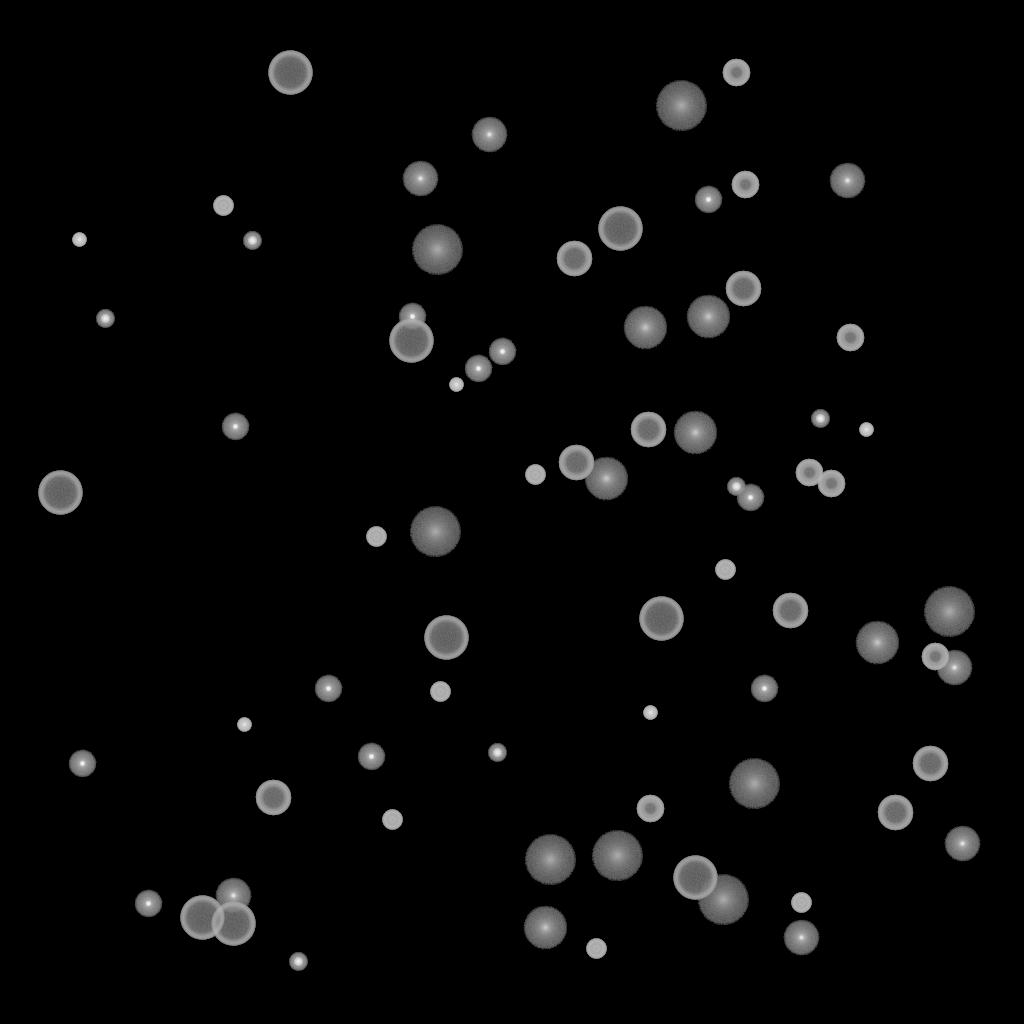depth:-10: (357, 743, 385, 771), (488, 338, 516, 366), (750, 675, 778, 703), (464, 355, 492, 383), (398, 303, 426, 331), (134, 890, 162, 918), (736, 484, 764, 512), (68, 750, 96, 778), (221, 413, 249, 441), (694, 186, 722, 214), (314, 675, 342, 703)
depth:-20: (488, 744, 506, 762), (811, 410, 829, 428), (243, 232, 261, 250), (96, 310, 114, 328), (289, 953, 307, 971), (727, 478, 745, 496)
depth:-30: (449, 378, 463, 392), (859, 423, 873, 437), (643, 706, 657, 720), (72, 233, 86, 247), (237, 718, 251, 732)
depth:-40: (366, 527, 386, 547), (715, 560, 735, 580), (525, 465, 545, 485), (430, 682, 450, 702), (586, 939, 606, 959), (213, 196, 233, 216), (791, 893, 811, 913), (382, 810, 402, 830)
depth:-50: (731, 171, 759, 199), (836, 324, 864, 352), (795, 459, 823, 487), (817, 470, 845, 498), (636, 795, 664, 823), (722, 59, 750, 87), (921, 643, 949, 671)
depth:-60: (558, 445, 594, 481), (556, 241, 592, 277), (630, 412, 666, 448), (255, 780, 291, 816), (912, 746, 948, 782), (725, 271, 761, 307), (877, 795, 913, 831), (772, 593, 808, 629)
depth:-70: (424, 616, 468, 660), (38, 471, 82, 515), (639, 597, 683, 641), (673, 856, 717, 900), (180, 896, 224, 940), (211, 902, 255, 946), (389, 319, 433, 363), (598, 207, 642, 251), (268, 51, 312, 95)
depth:0: (471, 117, 507, 153), (783, 920, 819, 956), (829, 163, 865, 199), (215, 878, 251, 914), (402, 161, 438, 197), (944, 826, 980, 862), (936, 650, 972, 686)
depth:10: (686, 295, 730, 339), (623, 306, 667, 350), (673, 411, 717, 455), (523, 906, 567, 950), (584, 457, 628, 501), (855, 621, 899, 665)
depth:20: (411, 225, 463, 275), (524, 835, 576, 885), (728, 759, 780, 809), (697, 875, 749, 925), (591, 831, 643, 881), (655, 81, 707, 131), (409, 507, 461, 557), (923, 587, 975, 637)
